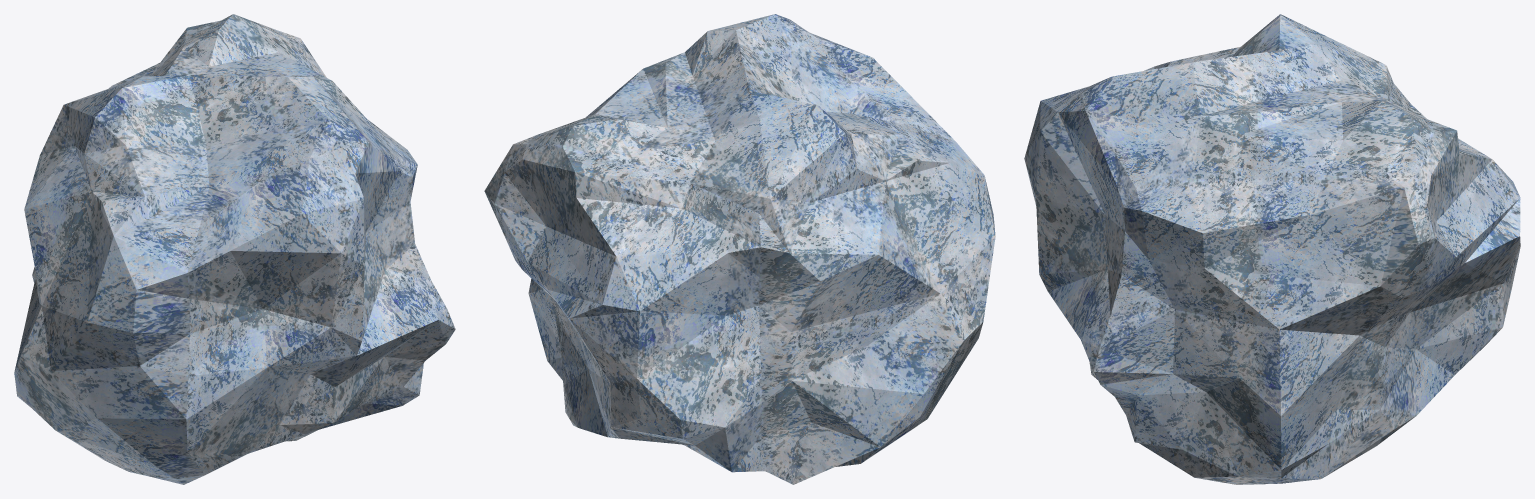
The model's file is asteroid_ice_large_s01_l1.fbx.
3 renders of one model, left to right at view 1: azimuth 30°, elevation 25°; view 2: azimuth 150°, elevation 25°; view 3: azimuth 270°, elevation 25°, orthographic.
Visible parts, largest first — view 1: mesh_node; view 2: mesh_node; view 3: mesh_node.
Boxes of the visible parts, left/top/right/bottom form: mesh_node: left=14, top=14, right=455, bottom=484; mesh_node: left=484, top=14, right=995, bottom=484; mesh_node: left=1024, top=14, right=1520, bottom=484.
Size of the model in its own units: 140 by 127 by 145.
1 material, 1 textured.
